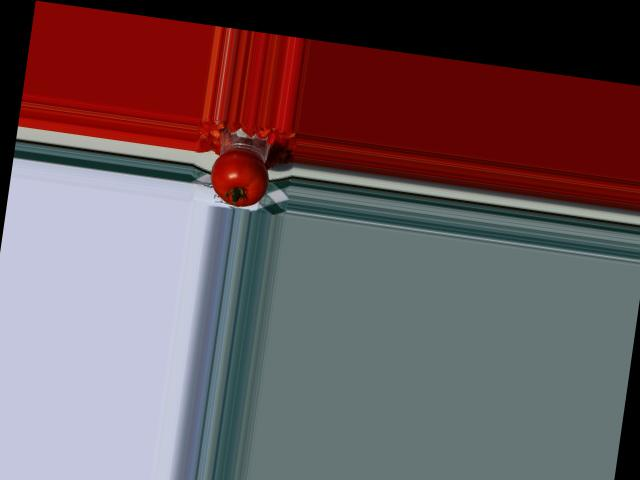tomato: (205, 146, 272, 210)
